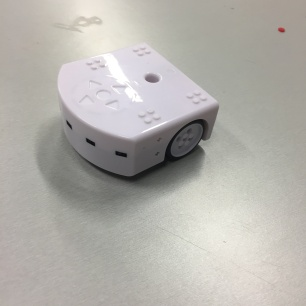thymio: (50, 41, 226, 186)
